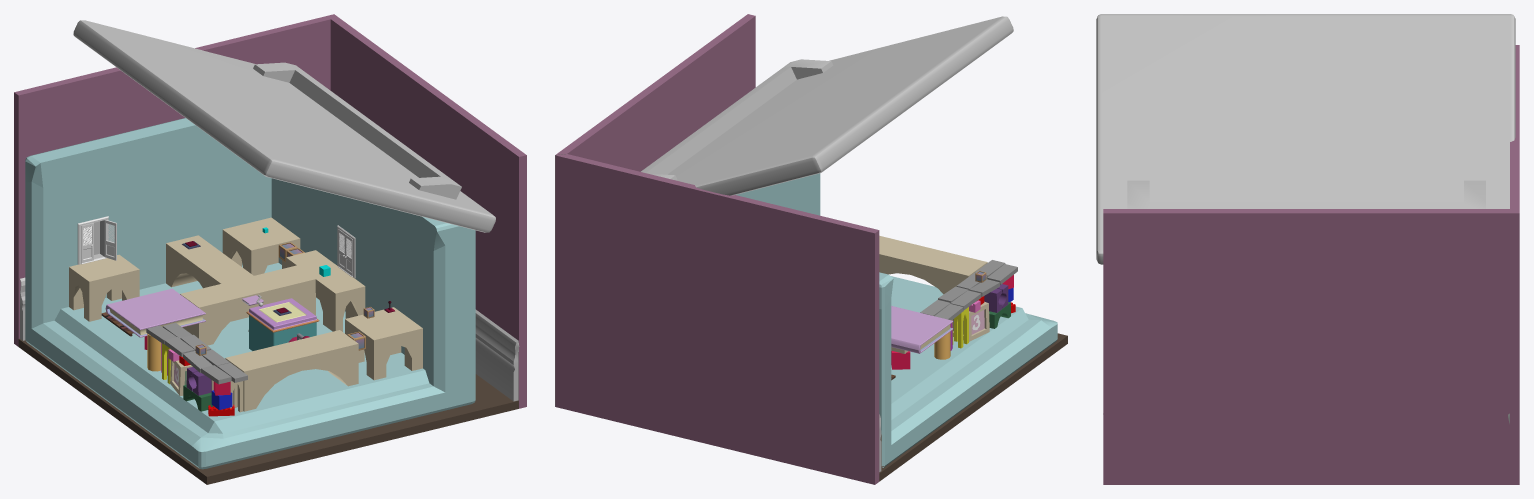
Rendered from Level[Submerged]Deco.fbx.
3 views of the same model, side by side, from view 1: azimuth 30°, elevation 25°; view 2: azimuth 150°, elevation 25°; view 3: azimuth 270°, elevation 25° (orthographic). The views are drawn at different scales.
Parts seen in each view (by area): view 1: bottomWall, lidCeiling, exteriorWallRight, rightWall, upperLeftWall, exteriorLeftWall, exteriorFloor, middleLeftWall, Arc3, Arc4, topLidDetail, lowerLeftWall (+10 smaller); view 2: exteriorLeftWall, lidCeiling, exteriorWallRight, bottomWall, topLidDetail, Arc3, exteriorFloor, bookPlatform, rightWall, upperLeftWall, lowerLeftWall, LetterCube1 (+1 smaller); view 3: exteriorWallRight, lidCeiling, topLidDetail, exteriorLeftWall.
Boxes of the visible parts, left/top/right/bottom form: bottomWall: left=31, top=263, right=475, bottom=469; lidCeiling: left=73, top=20, right=495, bottom=232; exteriorWallRight: left=330, top=14, right=526, bottom=408; rightWall: left=271, top=178, right=475, bottom=392; upperLeftWall: left=25, top=118, right=265, bottom=231; exteriorLeftWall: left=14, top=14, right=333, bottom=346; exteriorFloor: left=18, top=338, right=518, bottom=484; middleLeftWall: left=108, top=177, right=271, bottom=255; Arc3: left=225, top=330, right=358, bottom=411; Arc4: left=180, top=265, right=315, bottom=345; topLidDetail: left=253, top=62, right=461, bottom=199; lowerLeftWall: left=25, top=230, right=242, bottom=348; exteriorLeftWall: left=555, top=154, right=879, bottom=484; lidCeiling: left=667, top=16, right=1013, bottom=195; exteriorWallRight: left=555, top=14, right=755, bottom=406; bottomWall: left=891, top=276, right=1057, bottom=460; topLidDetail: left=641, top=59, right=833, bottom=180; Arc3: left=879, top=235, right=987, bottom=294; exteriorFloor: left=879, top=333, right=1067, bottom=481; bookPlatform: left=891, top=306, right=953, bottom=353; rightWall: left=736, top=173, right=820, bottom=215; upperLeftWall: left=879, top=272, right=893, bottom=352; lowerLeftWall: left=879, top=389, right=894, bottom=467; LetterCube1: left=953, top=301, right=989, bottom=341; exteriorWallRight: left=1103, top=209, right=1519, bottom=484; lidCeiling: left=1096, top=14, right=1515, bottom=264; topLidDetail: left=1127, top=180, right=1485, bottom=208; exteriorLeftWall: left=1510, top=45, right=1519, bottom=212.
Size of the model in its own units: 44.85 by 41.56 by 47.53.
